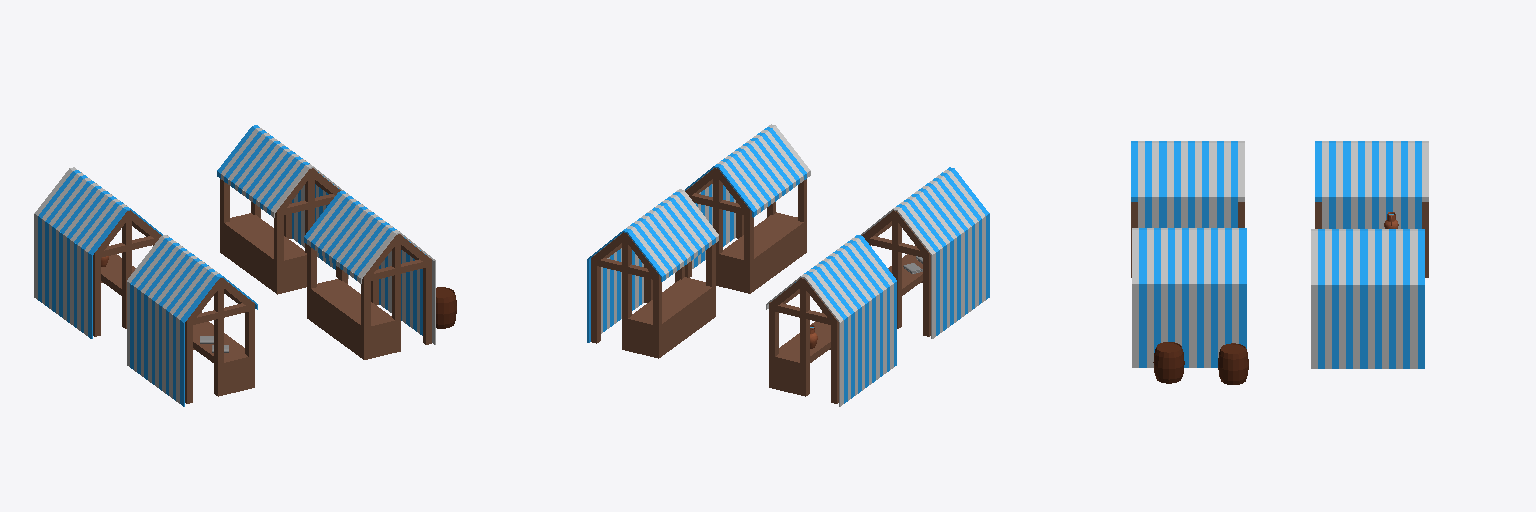
Rendered from market_blue_white.obj.
3 renders of one model, left to right at view 1: azimuth 30°, elevation 25°; view 2: azimuth 150°, elevation 25°; view 3: azimuth 270°, elevation 25°, orthographic.
Parts seen in each view (by area): view 1: Cube.060_Cube.235, Cube.156_Cube.225, Cube.052_Cube.004, Cube.056_Cube.178, Cube.147_Cube.153, Cube.001_Cube.064, Barrel1.001; view 2: Cube.156_Cube.225, Cube.060_Cube.235, Cube.056_Cube.178, Cube.052_Cube.004, Cube.001_Cube.064, Cube.147_Cube.153, Cube.025_Cube.001, Cube.057_Cube.179; view 3: Cube.156_Cube.225, Cube.060_Cube.235, Cube.001_Cube.064, Cube.147_Cube.153, Barrel1.001, Barrel1.
Boxes of the visible parts, x1,y1,x2,y2 form: Cube.060_Cube.235: [127, 235, 257, 406]; Cube.156_Cube.225: [34, 167, 162, 338]; Cube.052_Cube.004: [309, 234, 431, 359]; Cube.056_Cube.178: [222, 168, 340, 294]; Cube.147_Cube.153: [379, 250, 435, 344]; Cube.001_Cube.064: [292, 184, 348, 278]; Barrel1.001: [436, 287, 456, 328]; Cube.156_Cube.225: [766, 235, 896, 406]; Cube.060_Cube.235: [861, 167, 989, 338]; Cube.056_Cube.178: [591, 232, 715, 356]; Cube.052_Cube.004: [685, 168, 806, 292]; Cube.001_Cube.064: [587, 248, 643, 342]; Cube.147_Cube.153: [692, 184, 735, 268]; Cube.025_Cube.001: [744, 210, 753, 293]; Cube.057_Cube.179: [653, 275, 661, 358]; Cube.156_Cube.225: [1315, 141, 1428, 277]; Cube.060_Cube.235: [1131, 141, 1244, 277]; Cube.001_Cube.064: [1311, 285, 1424, 368]; Cube.147_Cube.153: [1132, 284, 1246, 367]; Barrel1.001: [1153, 342, 1184, 383]; Barrel1: [1218, 343, 1248, 384].
Size of the model in its own units: 9.51 by 3.73 by 8.36.